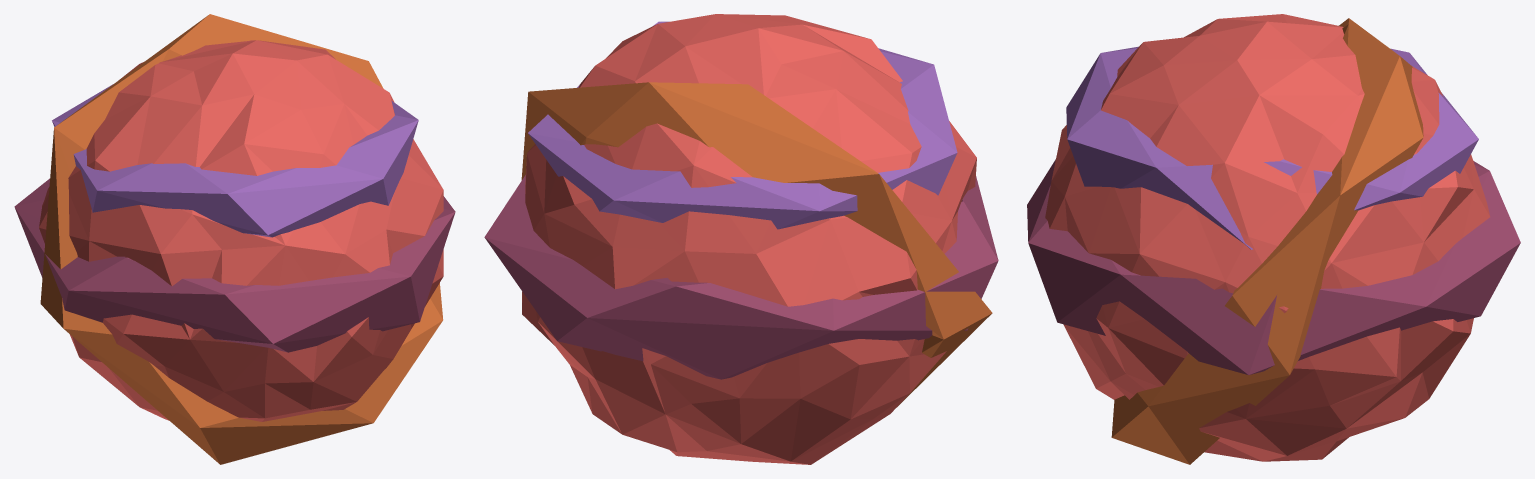
Rendered from ore_planet1.fbx.
3 views of the same model, side by side, from view 1: azimuth 30°, elevation 25°; view 2: azimuth 150°, elevation 25°; view 3: azimuth 270°, elevation 25° (orthographic). The views are drawn at different scales.
Parts seen in each view (by area): view 1: ore_planet1; view 2: ore_planet1; view 3: ore_planet1.
Part boxes in pixels (left/top/right/bottom): ore_planet1: left=14, top=14, right=455, bottom=464; ore_planet1: left=484, top=14, right=998, bottom=464; ore_planet1: left=1027, top=14, right=1520, bottom=464.
Size of the model in its own units: 218 by 200 by 215.
